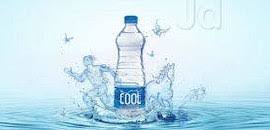platic: (119, 24, 145, 117)
